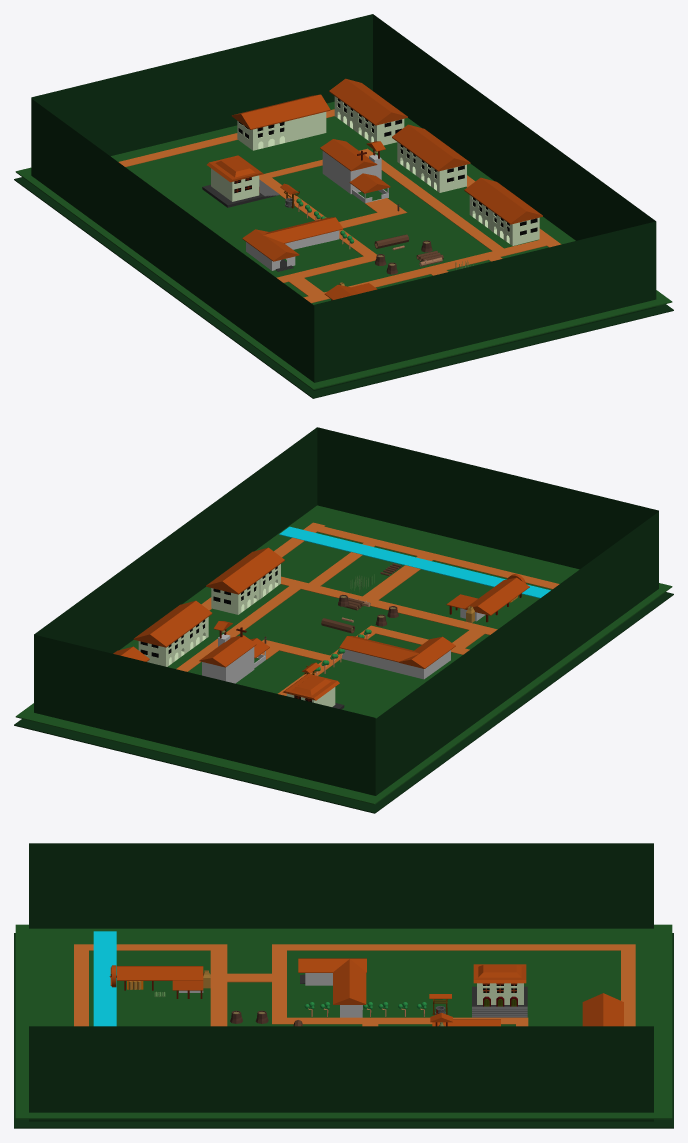
The model's file is cenario completo.fbx.
The picture shows the model from 3 angles, top to bottom: view 1: azimuth 30°, elevation 25°; view 2: azimuth 150°, elevation 25°; view 3: azimuth 270°, elevation 25°; orthographic projection. The views are drawn at different scales.
Visible parts, largest first — view 1: Plane.001, Plane.004, Plane.003, Cube.066, Cube.054, Cube.071, Cube.053, Cube.013, Cube.026, Cube.052, Cube.049, Cube.068 (+7 smaller); view 2: Plane.001, Plane.004, Plane.003, Plane.005, Cube.054, Cube.066, Plane.002, Cube.027, Cube.013, Cube.026, Cube.014, Cube.051 (+3 smaller); view 3: Plane.001, Plane.004, Plane.003, Plane.005, Cube.026, Cube.027, Cube.053, Cube.045, Cube.025, Cube.048, Cube.044, Plane.002 (+1 smaller).
Part boxes in pixels (x1=…): Plane.001: x1=14, y1=14, x2=673, y2=398; Plane.004: x1=15, y1=101, x2=672, y2=389; Plane.003: x1=118, y1=109, x2=561, y2=303; Cube.066: x1=392, y1=124, x2=470, y2=171; Cube.054: x1=464, y1=177, x2=542, y2=224; Cube.071: x1=329, y1=78, x2=407, y2=125; Cube.053: x1=231, y1=94, x2=330, y2=129; Cube.013: x1=322, y1=151, x2=381, y2=193; Cube.026: x1=263, y1=217, x2=343, y2=243; Cube.052: x1=237, y1=120, x2=289, y2=150; Cube.049: x1=490, y1=210, x2=539, y2=245; Cube.068: x1=418, y1=158, x2=466, y2=192; Plane.001: x1=14, y1=427, x2=673, y2=813; Plane.004: x1=15, y1=505, x2=672, y2=804; Plane.003: x1=176, y1=522, x2=559, y2=695; Plane.005: x1=279, y1=526, x2=550, y2=598; Cube.054: x1=206, y1=547, x2=284, y2=594; Cube.066: x1=133, y1=600, x2=212, y2=647; Plane.002: x1=342, y1=648, x2=450, y2=679; Cube.027: x1=464, y1=577, x2=529, y2=615; Cube.013: x1=202, y1=634, x2=254, y2=683; Cube.026: x1=339, y1=636, x2=419, y2=662; Cube.014: x1=199, y1=635, x2=256, y2=667; Cube.051: x1=211, y1=579, x2=259, y2=614; Plane.001: x1=14, y1=843, x2=673, y2=1128; Plane.004: x1=15, y1=924, x2=672, y2=1119; Plane.003: x1=74, y1=944, x2=635, y2=1026; Plane.005: x1=93, y1=931, x2=116, y2=1026; Cube.026: x1=333, y1=959, x2=366, y2=1004; Cube.027: x1=117, y1=966, x2=203, y2=980; Cube.053: x1=582, y1=993, x2=623, y2=1026; Cube.045: x1=473, y1=964, x2=526, y2=983; Cube.025: x1=298, y1=958, x2=366, y2=972; Cube.048: x1=477, y1=983, x2=523, y2=1004; Cube.044: x1=472, y1=1006, x2=527, y2=1017; Plane.002: x1=305, y1=973, x2=362, y2=1017.
Size of the model in its own units: 3027 by 699 by 4345.
